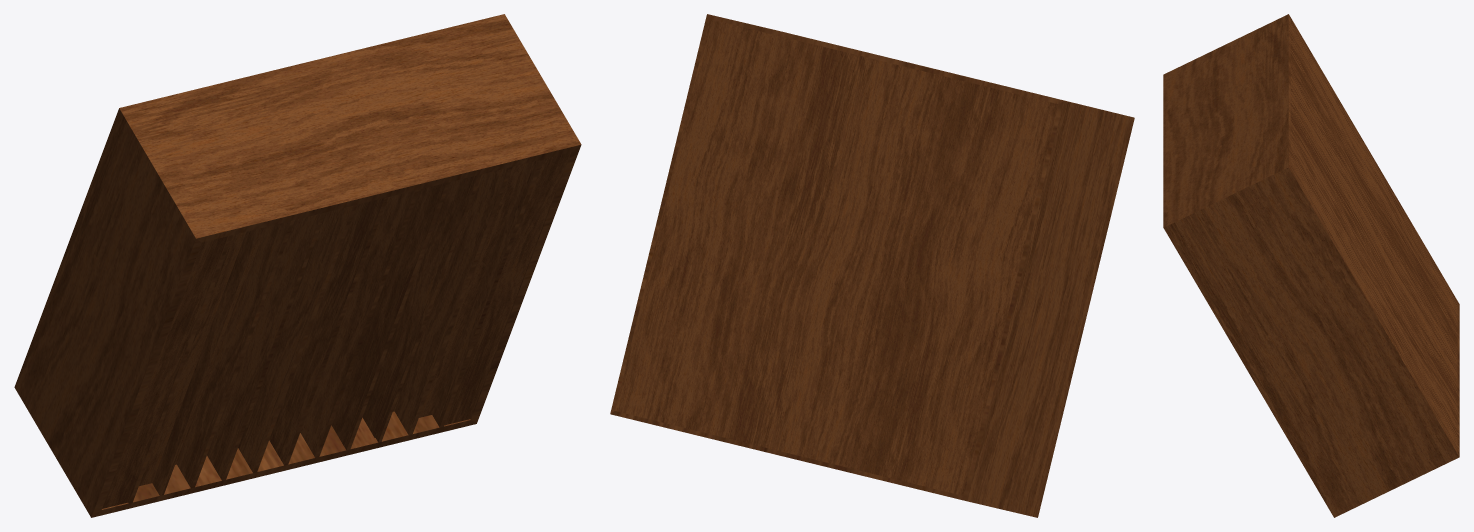
Rendered from RQS350.glb.
The picture shows the model from 3 angles, left to right: view 1: azimuth 30°, elevation 25°; view 2: azimuth 150°, elevation 25°; view 3: azimuth 270°, elevation 25°; orthographic projection. The views are drawn at different scales.
Parts seen in each view (by area): view 1: RQS350 23.625x23.625; view 2: RQS350 23.625x23.625; view 3: RQS350 23.625x23.625.
Part boxes in pixels (x1,y1,x2,y2): RQS350 23.625x23.625: (14,14,581,517); RQS350 23.625x23.625: (610,14,1134,517); RQS350 23.625x23.625: (1163,14,1459,517).
Bounding box in the file's own units: 0.6001 × 0.64 × 0.4897.
1 material, 1 textured.
